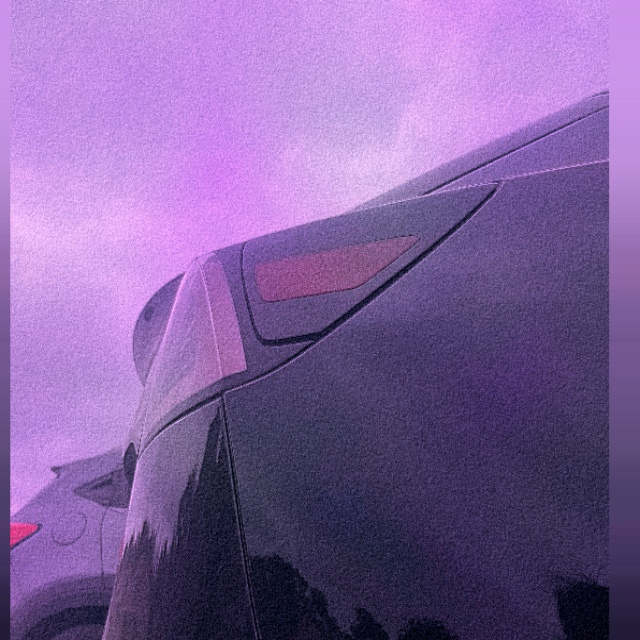reflector: (253, 236, 421, 301)
